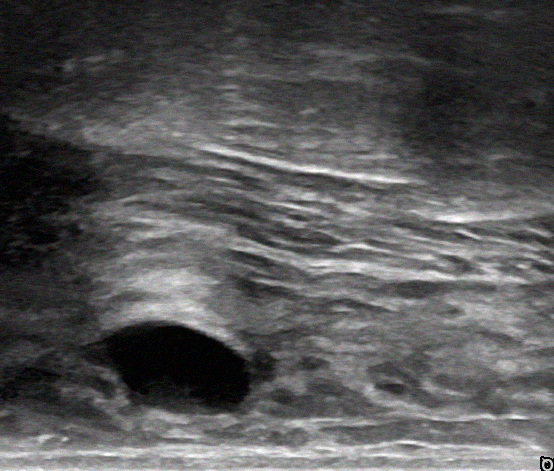Benign: (105, 318, 254, 410)
